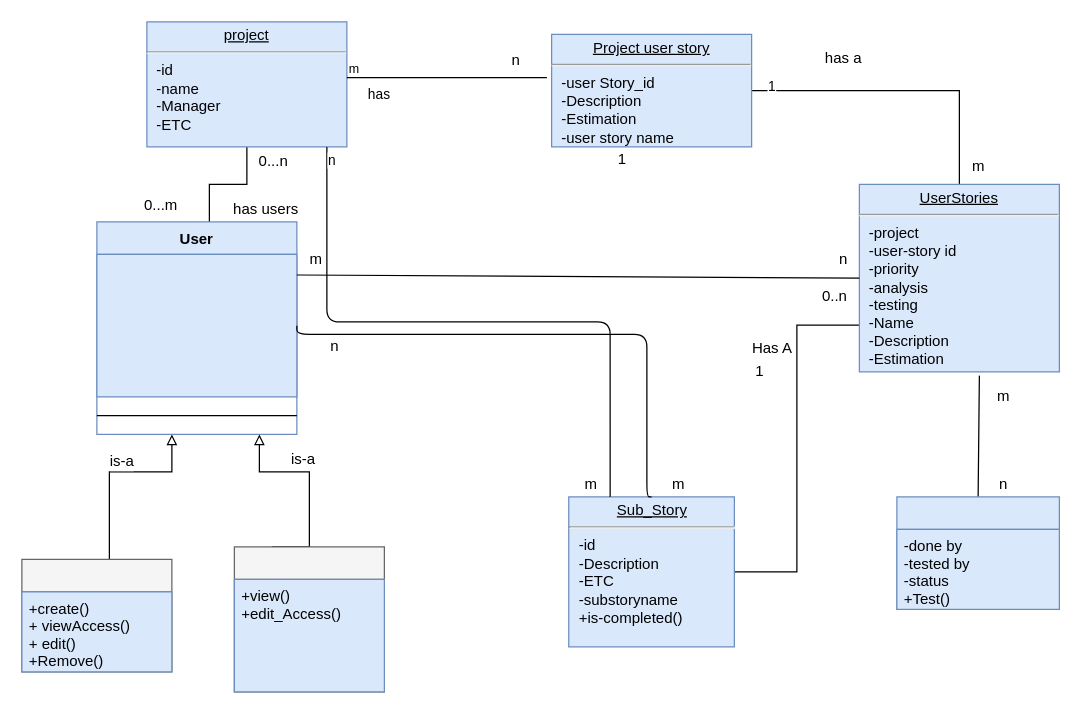
Image size: 1081x718. Some labels were removed from this diagram. Here are the shapes that lost their labels. From the top down, the box of each, then its label:
(96, 253, 297, 397): -id -First Name -Last Name Email Project -username -Password
(896, 496, 1059, 609): Support testing
(21, 558, 172, 672): Manager
(233, 546, 384, 692): Developer
